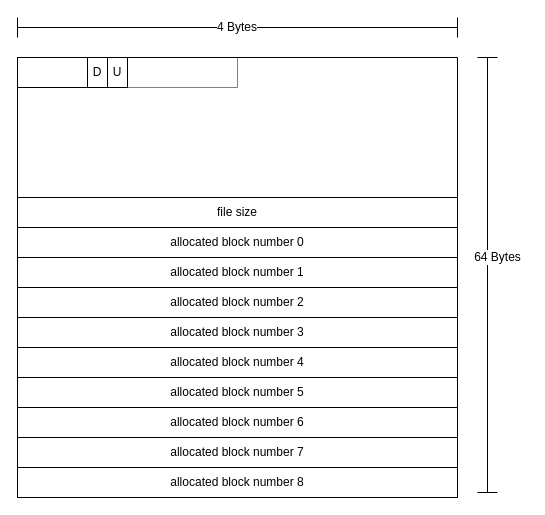
Some shapes in this 545 by 515 pixel diagram are drawn without their labels. Here are the shapes that lost their labels. From the top down, the box of each, then its label:
(16, 56, 88, 88): unused
(126, 56, 238, 88): block count
(17, 87, 457, 197): file name
